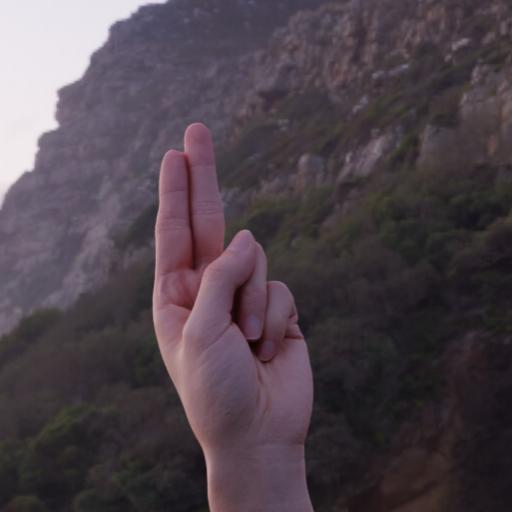U: (151, 115, 337, 469)
